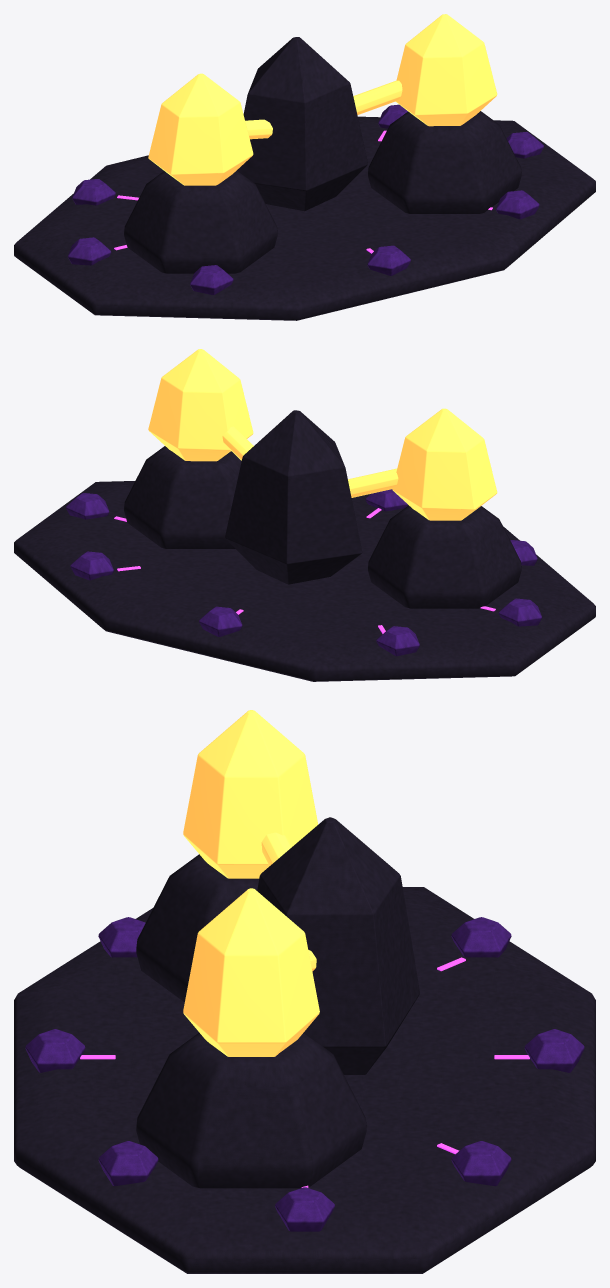
Rendered from conclave_alambic_de_cristal.gltf.
3 views of the same model, one above another, from view 1: azimuth 30°, elevation 25°; view 2: azimuth 150°, elevation 25°; view 3: azimuth 270°, elevation 25° (orthographic). The views are drawn at different scales.
Parts seen in each view (by area): view 1: Root.002_Geometry; view 2: Root.002_Geometry; view 3: Root.002_Geometry.
Boxes of the visible parts, x1,y1,x2,y2 form: Root.002_Geometry: [14, 14, 595, 320]; Root.002_Geometry: [14, 349, 595, 681]; Root.002_Geometry: [14, 710, 595, 1273].
Size of the model in its own units: 5.88 by 2.16 by 3.92.
5 materials, 2 textured.
